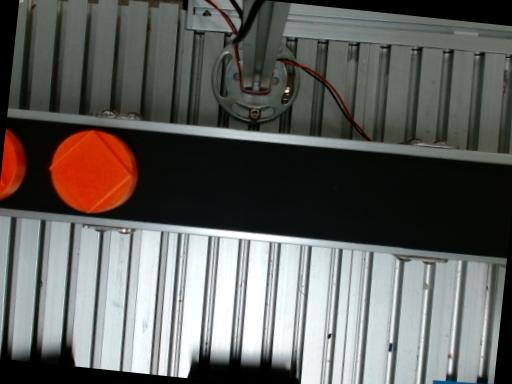Orange_Waper: (49, 130, 138, 213), (0, 129, 27, 199)
Square: (48, 128, 133, 212)
